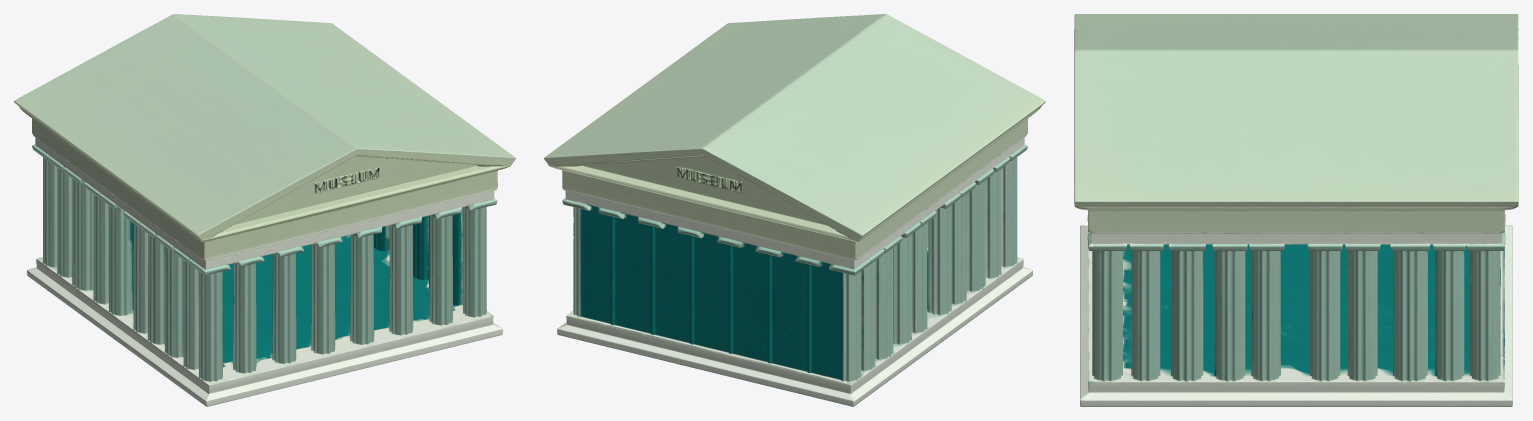
The model's file is museum_nasional_indonesia.glb.
3 views of the same model, side by side, from view 1: azimuth 30°, elevation 25°; view 2: azimuth 150°, elevation 25°; view 3: azimuth 270°, elevation 25° (orthographic). The views are drawn at different scales.
Parts seen in each view (by area): view 1: convert; view 2: convert; view 3: convert.
Part boxes in pixels (x1,y1,x2,y2): convert: [14, 14, 515, 406]; convert: [544, 14, 1045, 406]; convert: [1074, 14, 1518, 406].
Size of the model in its own units: 0.7983 by 0.5364 by 0.799.
Materials: 1 (1 with a texture image).
